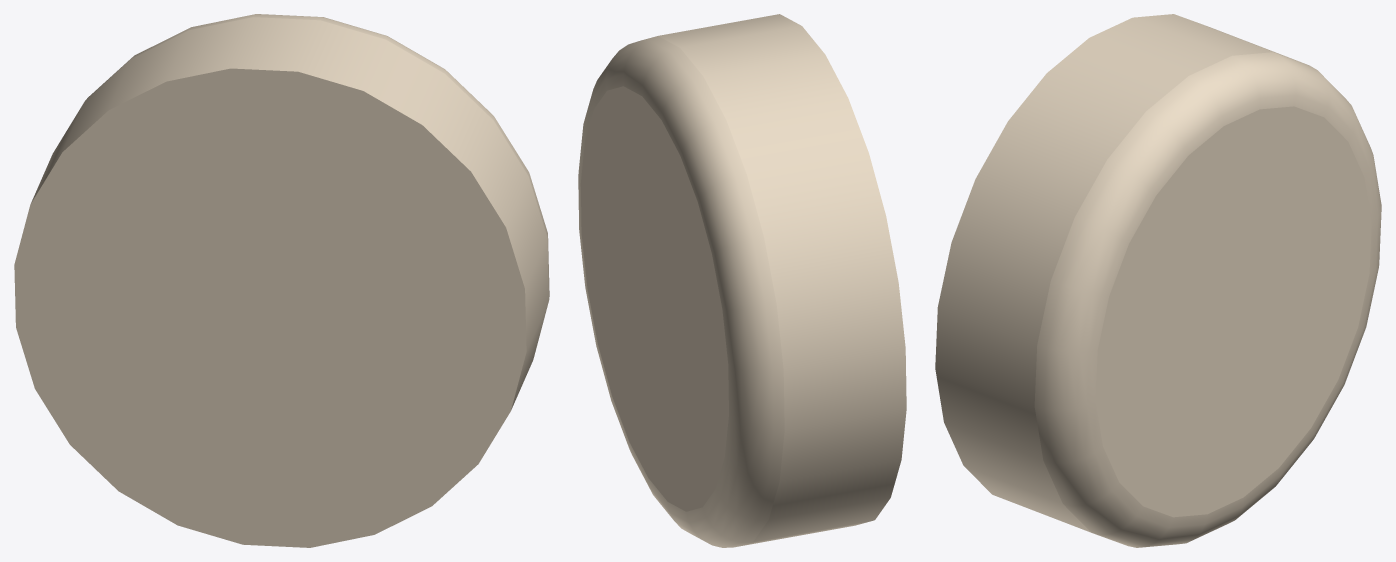
Rendered from original-71.obj.
3 views of the same model, side by side, from view 1: azimuth 30°, elevation 25°; view 2: azimuth 150°, elevation 25°; view 3: azimuth 270°, elevation 25° (orthographic).
Visible parts, largest first — view 1: Component_5_63/Component_5/mesh11/mesh11-geometry#mesh11-geometr; view 2: Component_5_63/Component_5/mesh11/mesh11-geometry#mesh11-geometr; view 3: Component_5_63/Component_5/mesh11/mesh11-geometry#mesh11-geometr.
Boxes of the visible parts, <box> form: Component_5_63/Component_5/mesh11/mesh11-geometry#mesh11-geometr: <box>14,14,549,547</box>; Component_5_63/Component_5/mesh11/mesh11-geometry#mesh11-geometr: <box>578,14,906,547</box>; Component_5_63/Component_5/mesh11/mesh11-geometry#mesh11-geometr: <box>935,14,1381,547</box>.
Bounding box in the file's own units: 0.0534 × 0.0568 × 0.0489.
